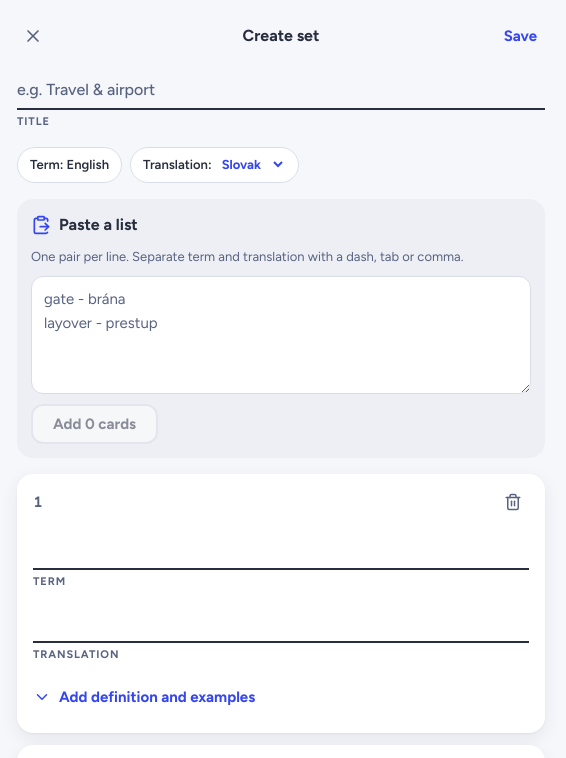
Test: SetEditorPage › shows an error for a card without a translation and saves nothing
Type "T" into the field labelled "Title" at (281, 91), box [17,72,545,110]
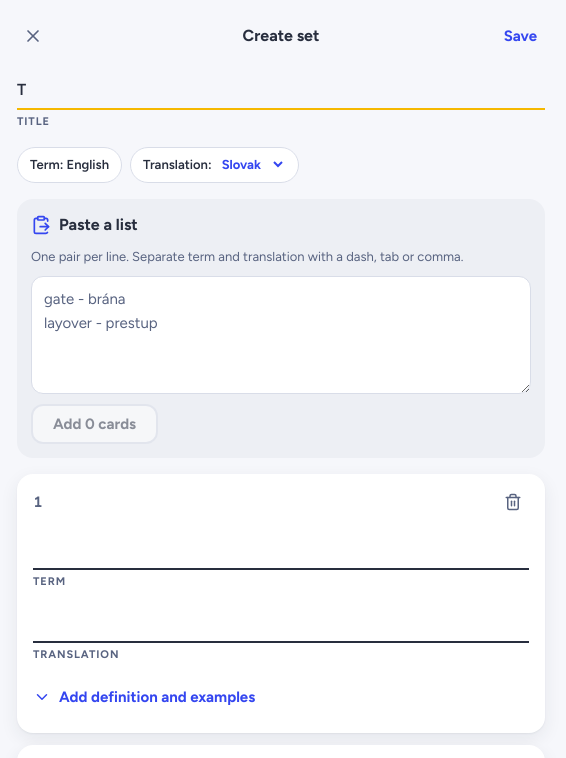
Type "gate" into the field labelled "Term" at (281, 551), box [33,532,529,570]
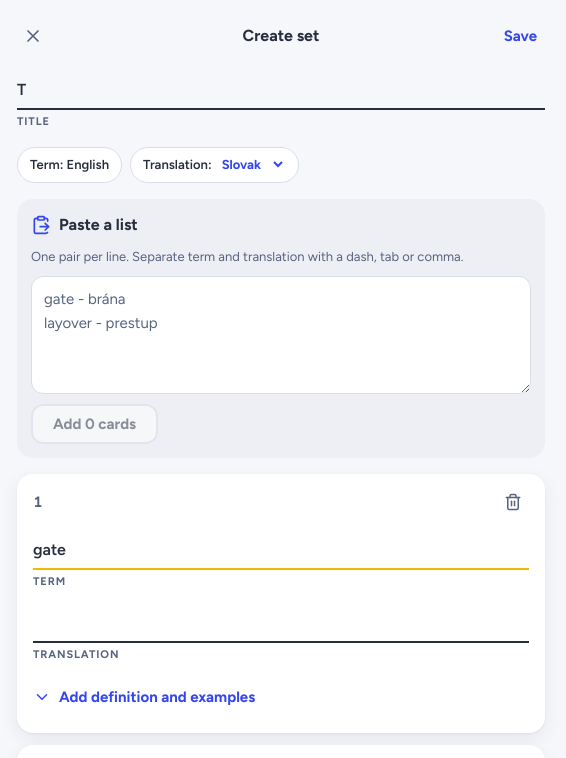
Click the button "Save" at (520, 36), box [492,12,549,60]
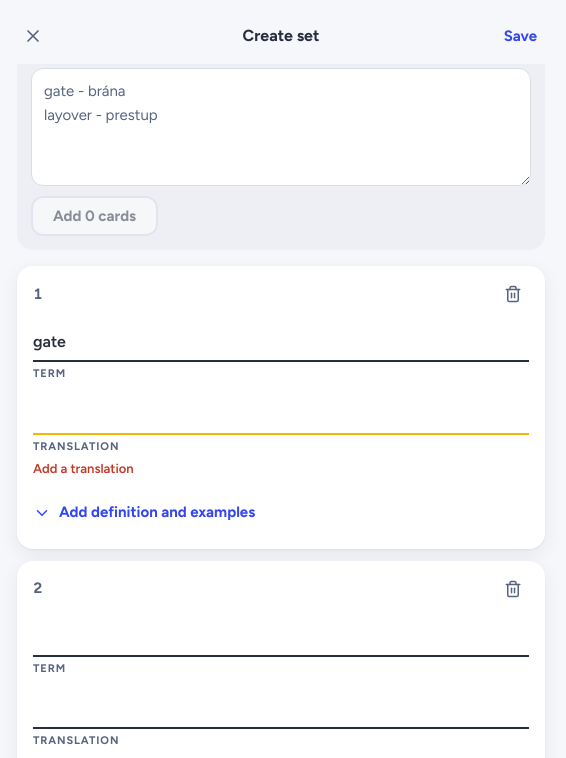
Expected: the text "Add a translation" is shown, [33,461,134,476]
